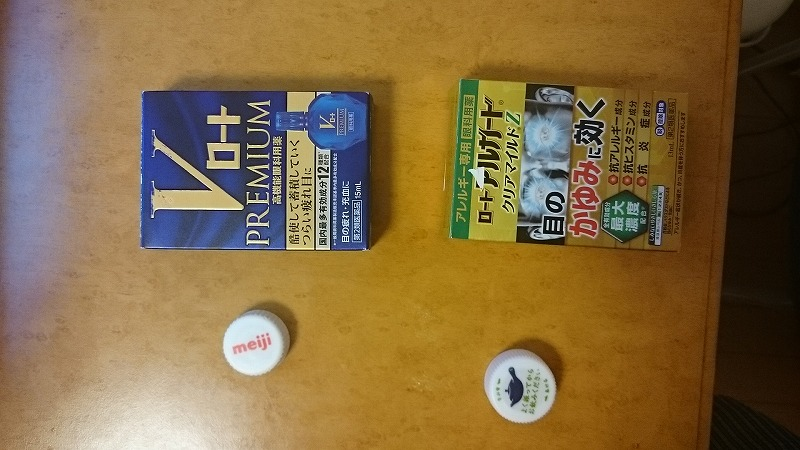A: (477, 340, 569, 435)
B: (215, 304, 302, 378)
C: (443, 77, 690, 260)
D: (135, 88, 376, 259)
